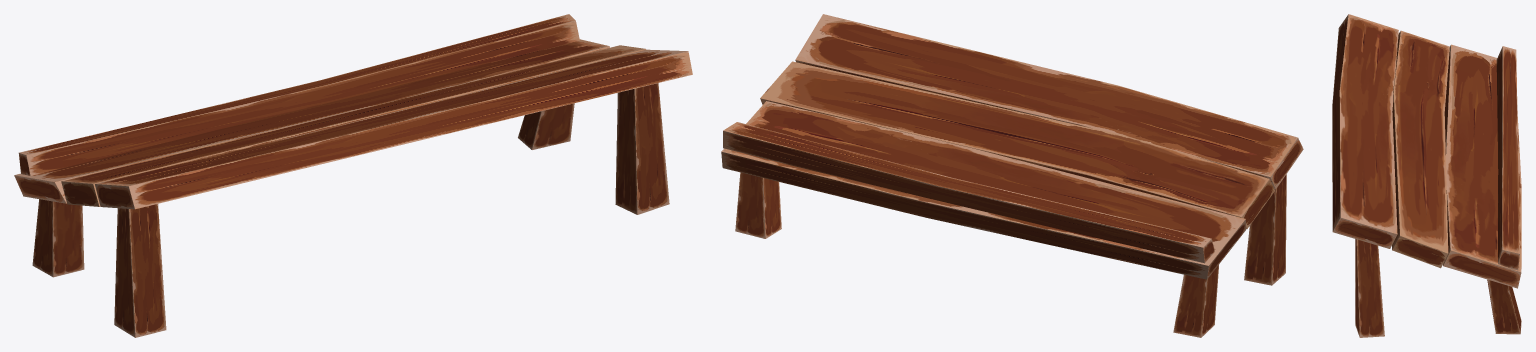
File: SM_PROP_market_shelf_02.fbx
3 views of the same model, side by side, from view 1: azimuth 30°, elevation 25°; view 2: azimuth 150°, elevation 25°; view 3: azimuth 270°, elevation 25° (orthographic). The views are drawn at different scales.
Parts seen in each view (by area): view 1: SM_PROP_market_shelf_02; view 2: SM_PROP_market_shelf_02; view 3: SM_PROP_market_shelf_02.
Boxes of the visible parts, box(x1,y1,x2,y2) form: SM_PROP_market_shelf_02: box(14, 14, 692, 337); SM_PROP_market_shelf_02: box(721, 14, 1303, 337); SM_PROP_market_shelf_02: box(1332, 14, 1521, 337).
Bounding box in the file's own units: 293 × 80.11 × 112.
